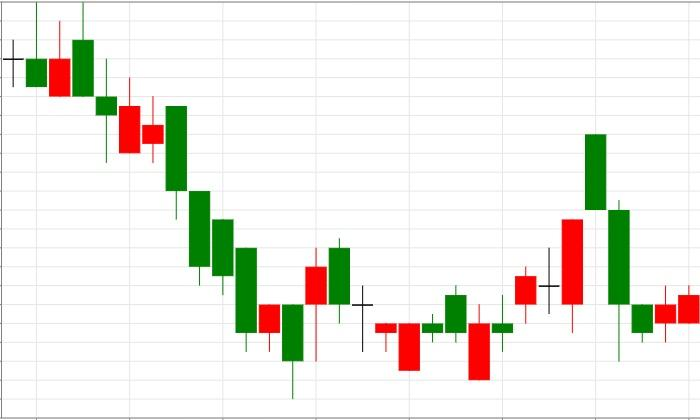three_black_crows_fall: (468, 133, 653, 381)
